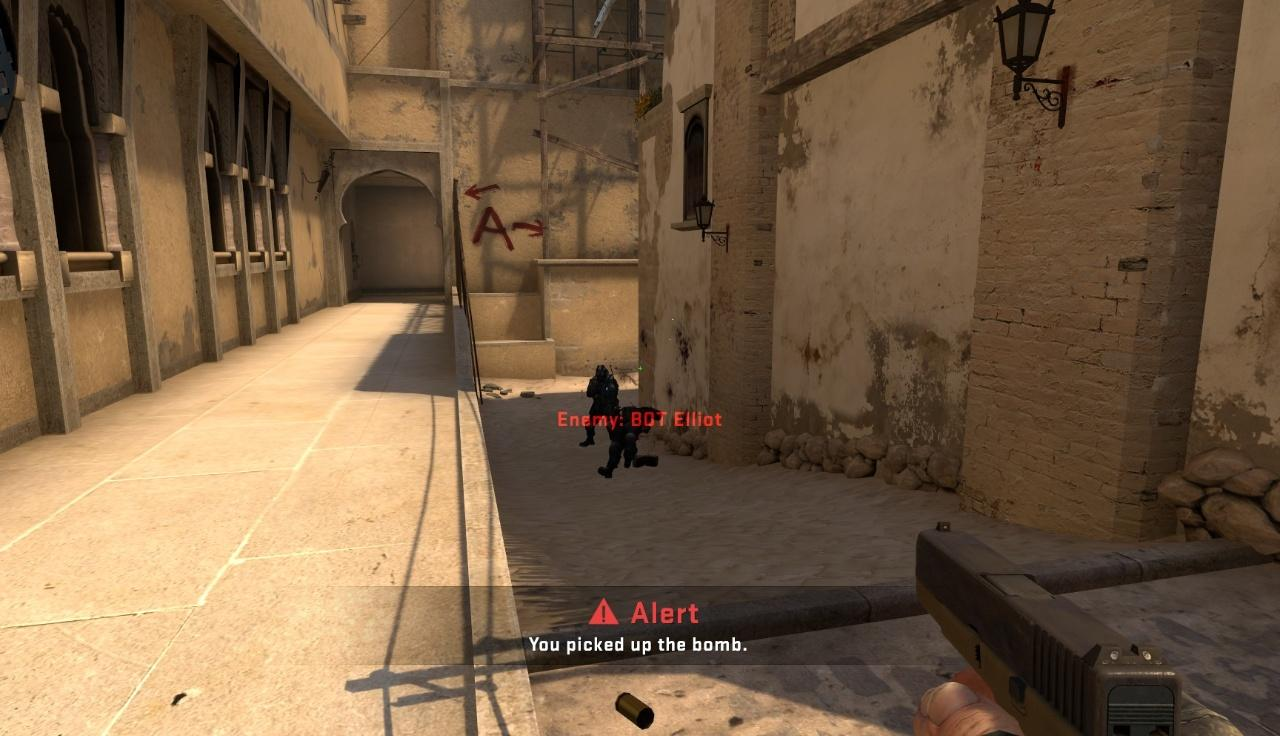ct: (579, 364, 621, 446)
cthead: (594, 364, 610, 380)
pistol: (905, 518, 1280, 736)
